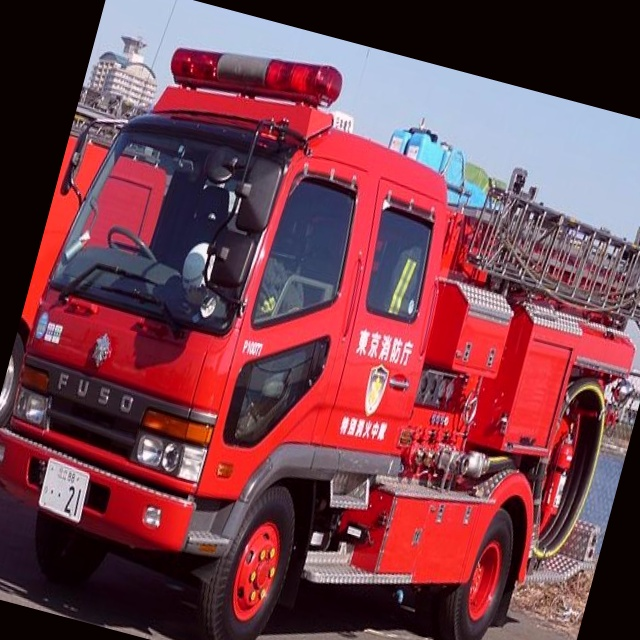Fire-truck: (0, 5, 640, 640)
